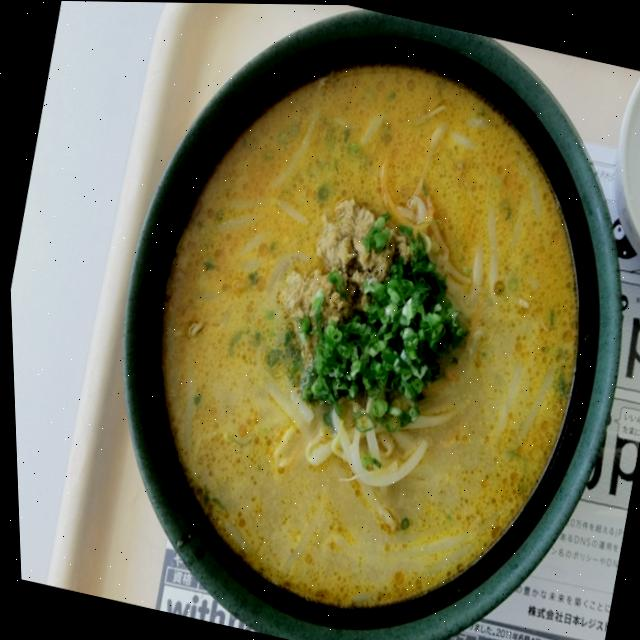面条主食: (0, 0, 412, 634)
